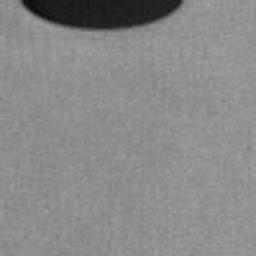Punching: (19, 0, 187, 32)
